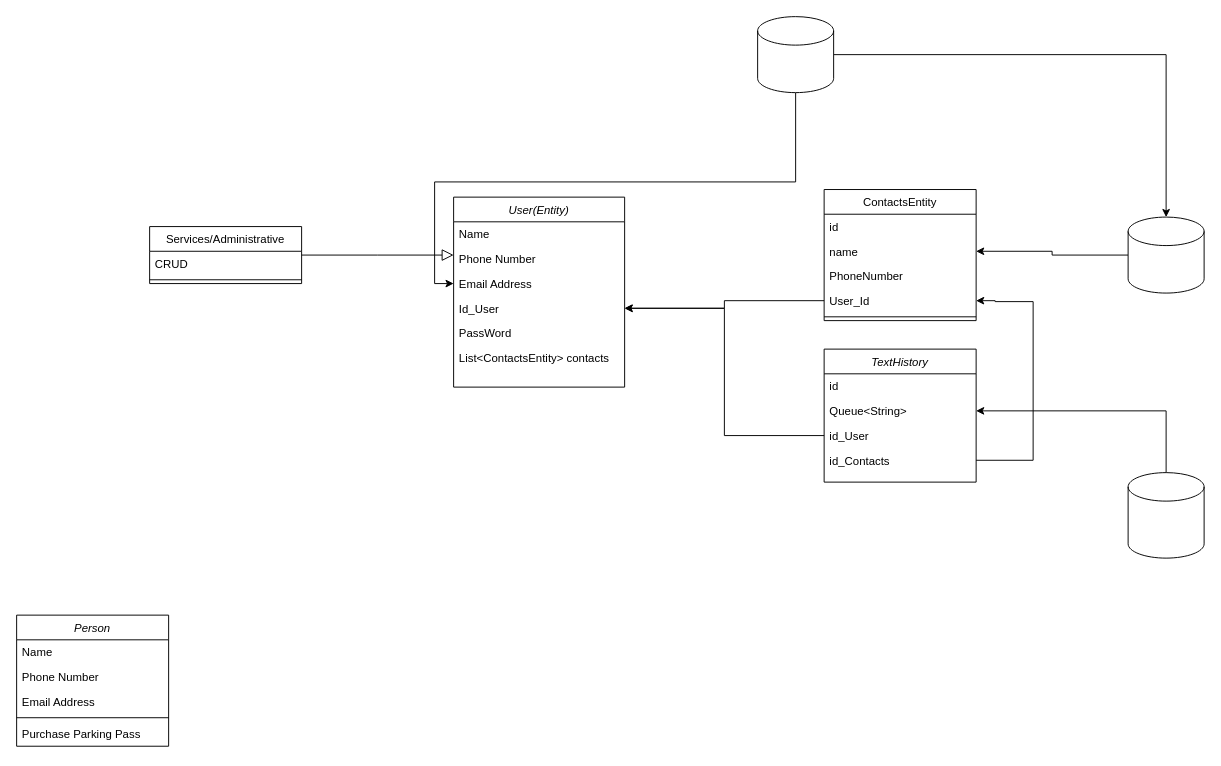
Some shapes in this 1221 by 766 pixel diagram are drawn without their labels. Each missing label, with the centre of its shape:
Bd/Contacts: the point at 1165,254
Bd/TextHistory: the point at 1165,515
Bd/User: the point at 795,54
